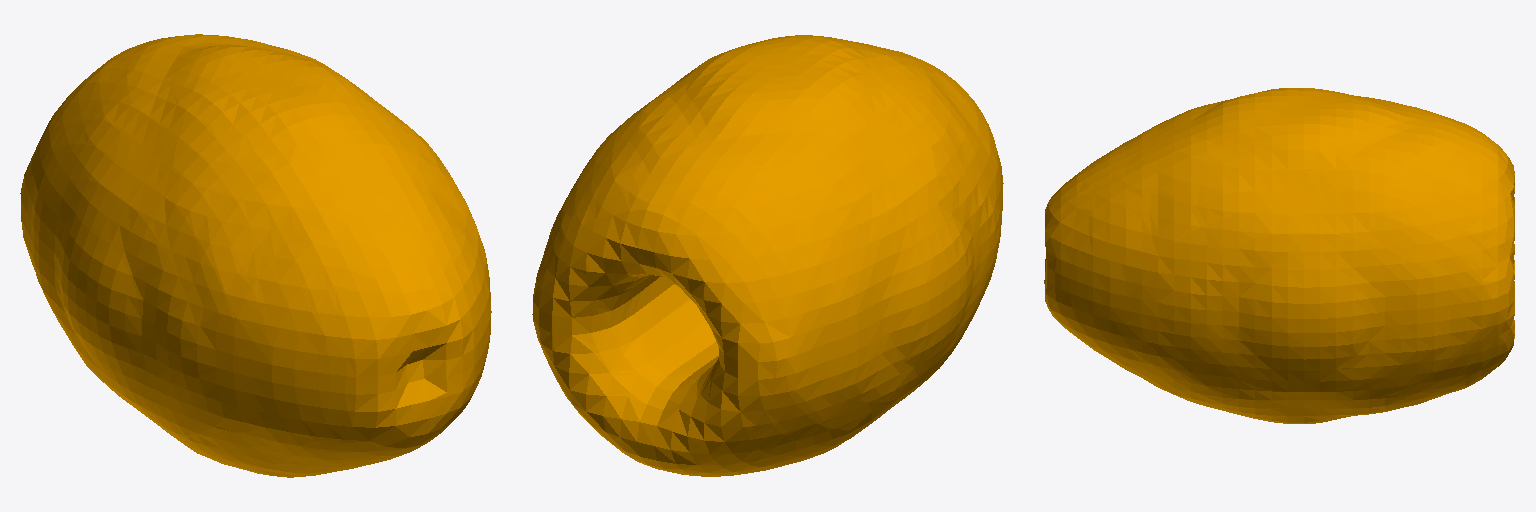
URDF robot description (I11_1):
<?xml version="1.0"?>
<robot name="I11_1">
  <link name="base_link">
    <inertial>
      <mass value="0.12976" />
      <origin xyz="0 0 0" />
      <inertia  ixx="0.0002" ixy="0.0"  ixz="0.0"  iyy="0.0002"  iyz="0.0" izz="0.0002" />
    </inertial>
    <visual>
      <geometry>
        <mesh filename="../../../meshes/egad/train/I11_1.obj" />
      </geometry>
    </visual>
    <collision>
      <geometry>
        <mesh filename="../../../meshes/egad/train/I11_1.obj" />
      </geometry>
    </collision>
  </link>
</robot>

--- Facts derived from the render (not from the file) ---
The picture shows the robot from 3 angles, left to right: view 1: azimuth 30°, elevation 25°; view 2: azimuth 150°, elevation 25°; view 3: azimuth 270°, elevation 25°; orthographic projection.
Robot: I11_1 — 1 links, 0 joints (none); root link base_link; default pose: all joints at 0.
Visible links, largest first — view 1: base_link; view 2: base_link; view 3: base_link.
Boxes of the visible links, box(x1,y1,x2,y2) form: base_link: box(20, 34, 491, 477); base_link: box(532, 35, 1003, 476); base_link: box(1044, 88, 1514, 423).
Size in the robot's own frame: 0.0529 by 0.0751 by 0.0529 metres.
Meshes: 1 distinct files referenced, 1 mesh visuals loaded (1 OBJ).